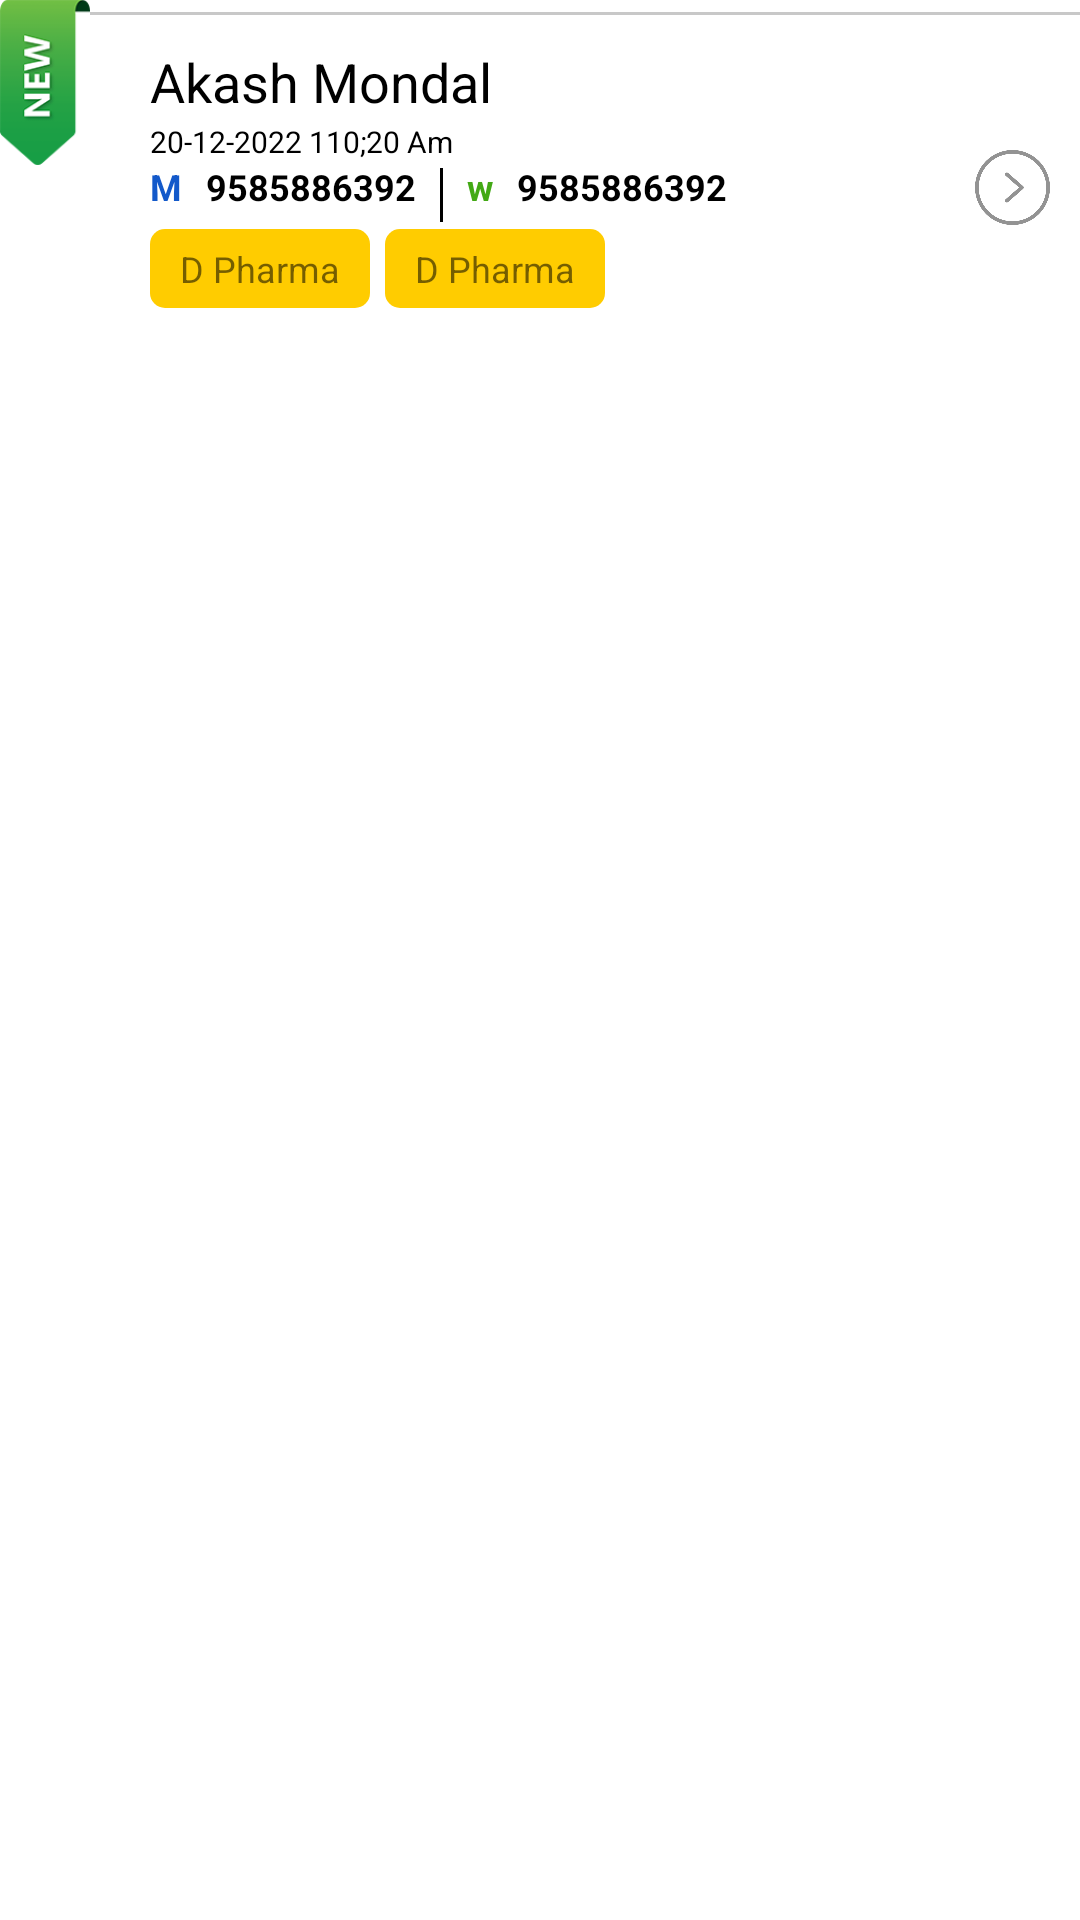

Icon click points for this 1080 × 1920 phone screenshot, format [x,y]:
arrow: [1012,187]
tag: [45,82]
